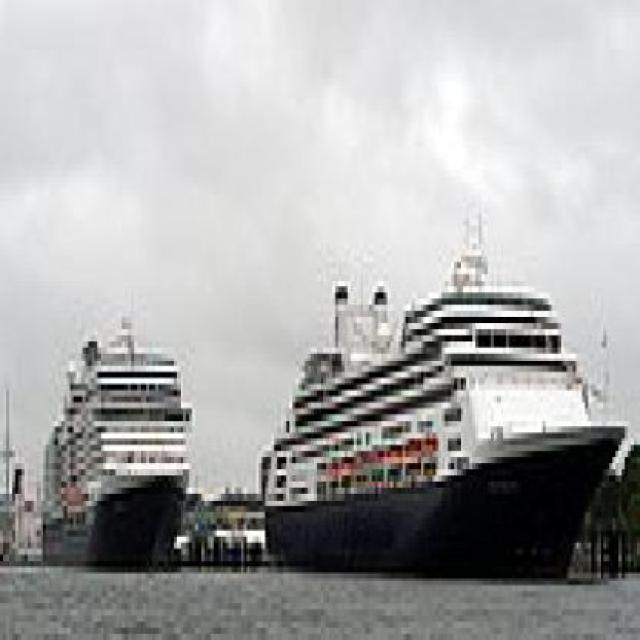cruise: (248, 233, 632, 599), (38, 306, 196, 586)
